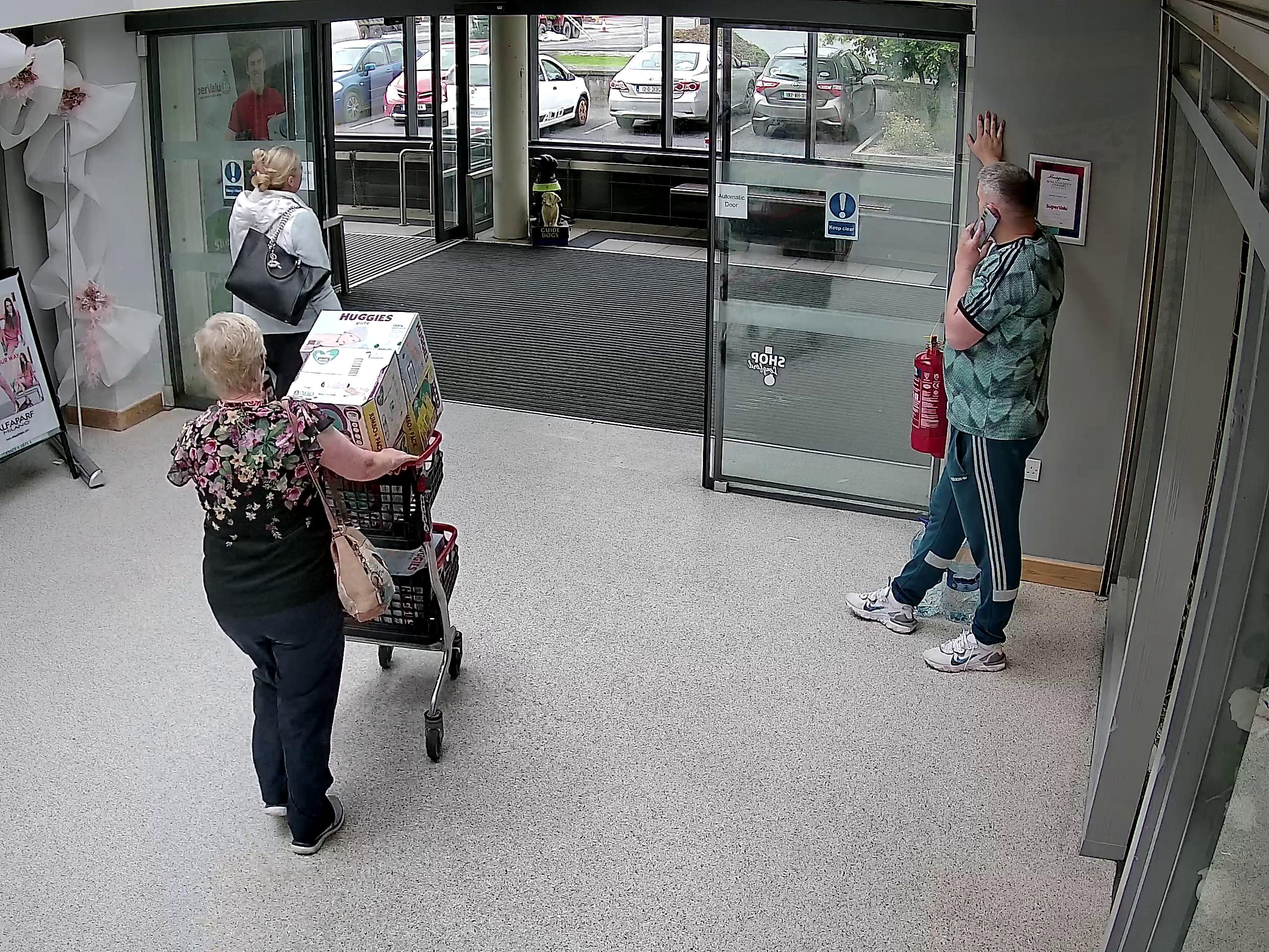backpack-or-handbag: (225, 226, 331, 327), (326, 521, 396, 623)
filled-trolly: (289, 308, 463, 762)
person: (168, 311, 418, 858), (229, 145, 344, 396)
person-with-backpack-handbag: (225, 145, 343, 395)
person-with-basket-trolly-and-backpack-handbag: (169, 306, 463, 857)
